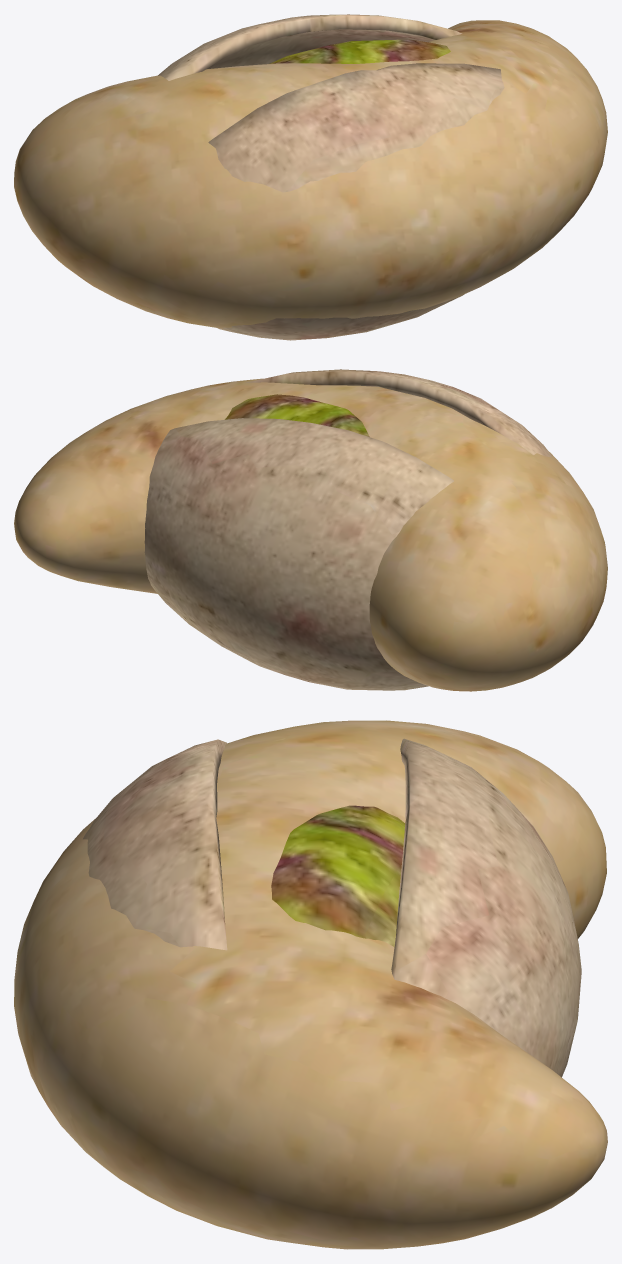
Rendered from nuts.glb.
3 renders of one model, top to bottom at view 1: azimuth 30°, elevation 25°; view 2: azimuth 150°, elevation 25°; view 3: azimuth 270°, elevation 25°, orthographic. The views are drawn at different scales.
Visible parts, largest first — view 1: cashew, pistachio; view 2: cashew, pistachio; view 3: cashew, pistachio.
Part boxes in pixels (box(x1,y1,x2,y2)): cashew: box(14, 20, 607, 328); pistachio: box(158, 14, 504, 340); cashew: box(14, 378, 607, 691); pistachio: box(144, 369, 551, 690); cashew: box(14, 720, 607, 1249); pistachio: box(83, 738, 581, 1077).
Bounding box in the file's own units: 2.51 × 1.16 × 1.62.
4 materials, 4 textured.
